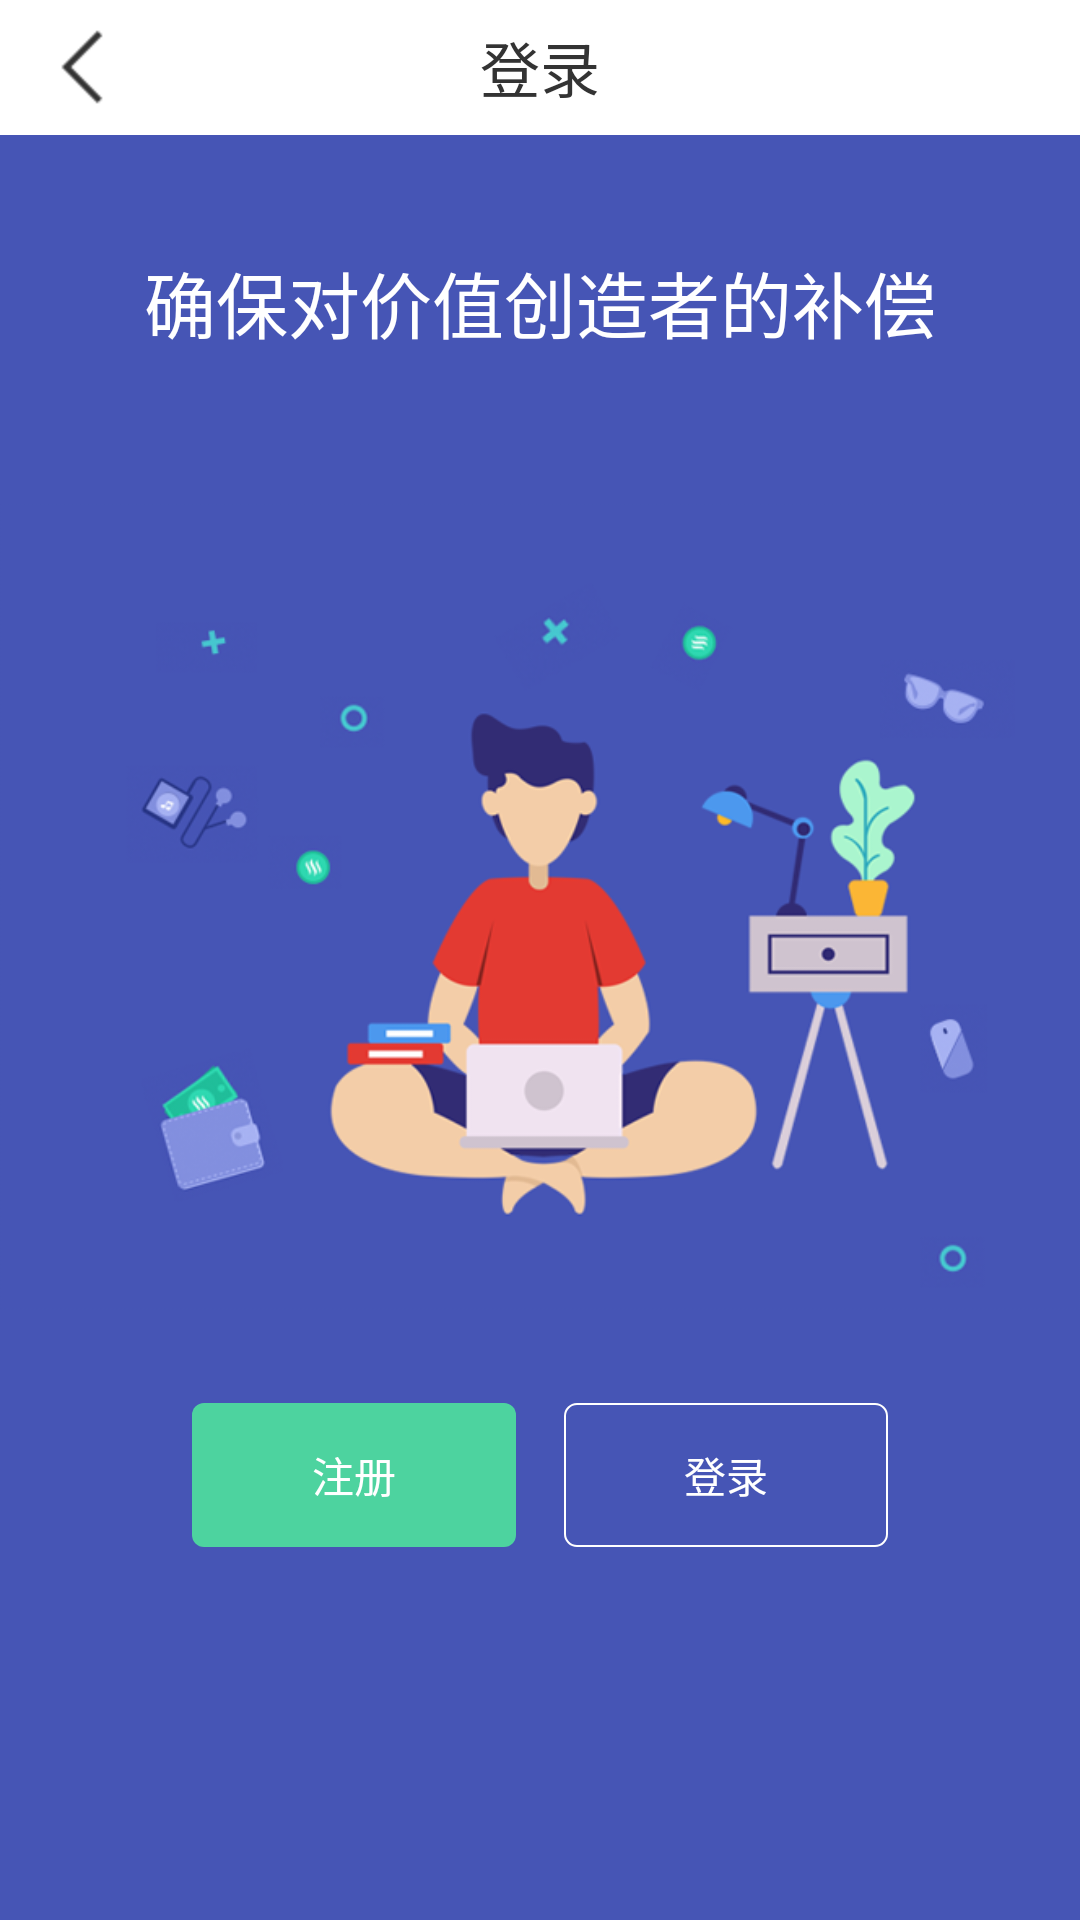

Where icons sit on this 1080 x 1920 app screen, as box=[x1, y1, x2, y2]:
back: box=[61, 30, 103, 104]
